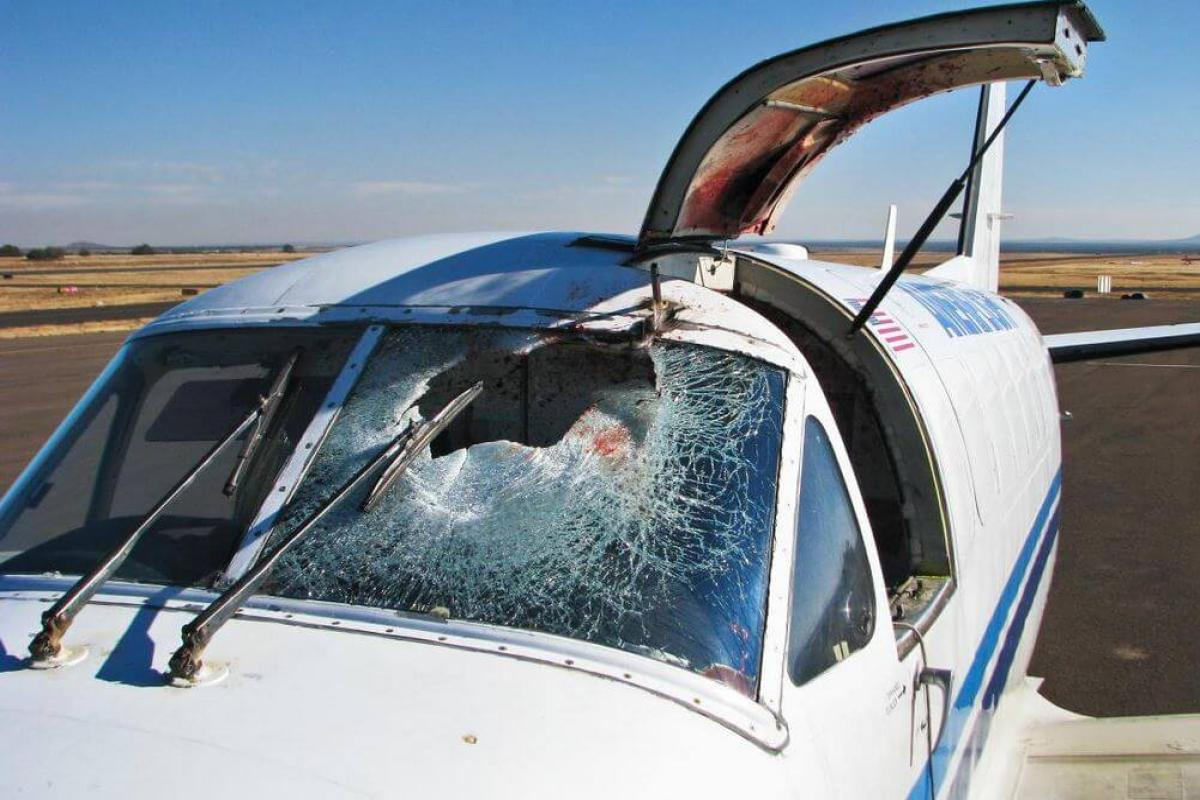Fuselage_damage: (225, 275, 861, 776)
